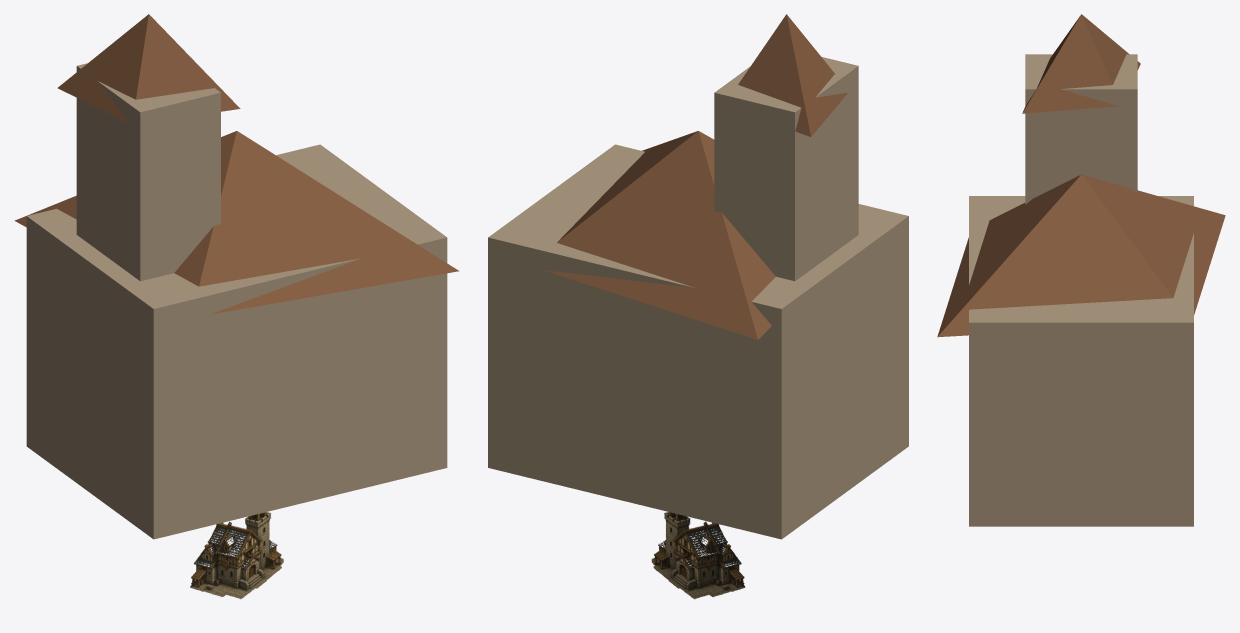
Rendered from centro_cittadino.glb.
3 renders of one model, left to right at view 1: azimuth 30°, elevation 25°; view 2: azimuth 150°, elevation 25°; view 3: azimuth 270°, elevation 25°, orthographic. The views are drawn at different scales.
Visible parts, largest first — view 1: Body, Tower, Roof, TowerRoof, CatalogTexture; view 2: Body, Roof, Tower, TowerRoof, CatalogTexture; view 3: Body, Roof, Tower, TowerRoof.
Part boxes in pixels (left/top/right/bottom): Body: left=26, top=144, right=447, bottom=539; Tower: left=76, top=63, right=220, bottom=281; Roof: left=14, top=131, right=459, bottom=314; TowerRoof: left=57, top=14, right=240, bottom=123; CatalogTexture: left=190, top=512, right=283, bottom=599; Body: left=488, top=144, right=908, bottom=539; Roof: left=544, top=131, right=775, bottom=339; Tower: left=714, top=57, right=858, bottom=281; TowerRoof: left=738, top=14, right=847, bottom=136; CatalogTexture: left=651, top=512, right=745, bottom=599; Body: left=969, top=196, right=1193, bottom=526; Roof: left=937, top=174, right=1225, bottom=337; Tower: left=1025, top=54, right=1137, bottom=204; TowerRoof: left=1022, top=14, right=1140, bottom=113.
Size of the model in its own units: 2 by 3.99 by 1.92.
3 materials, 1 textured.
